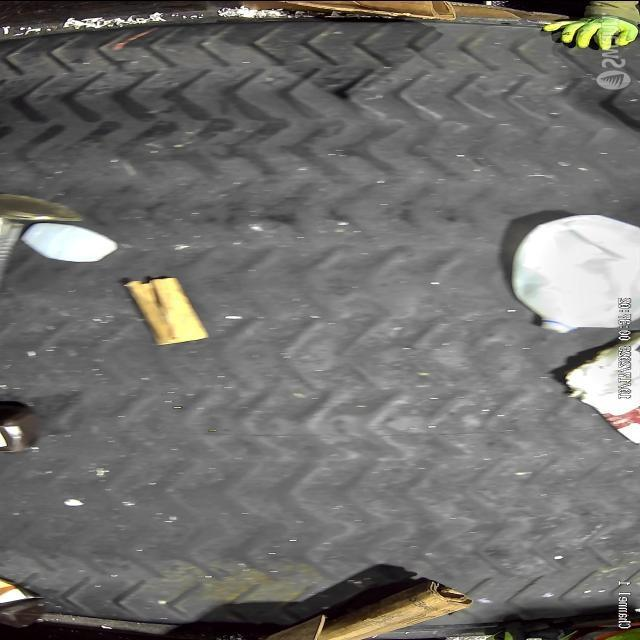milk_jug: (510, 212, 638, 332)
non_white_jug: (0, 576, 47, 626)
